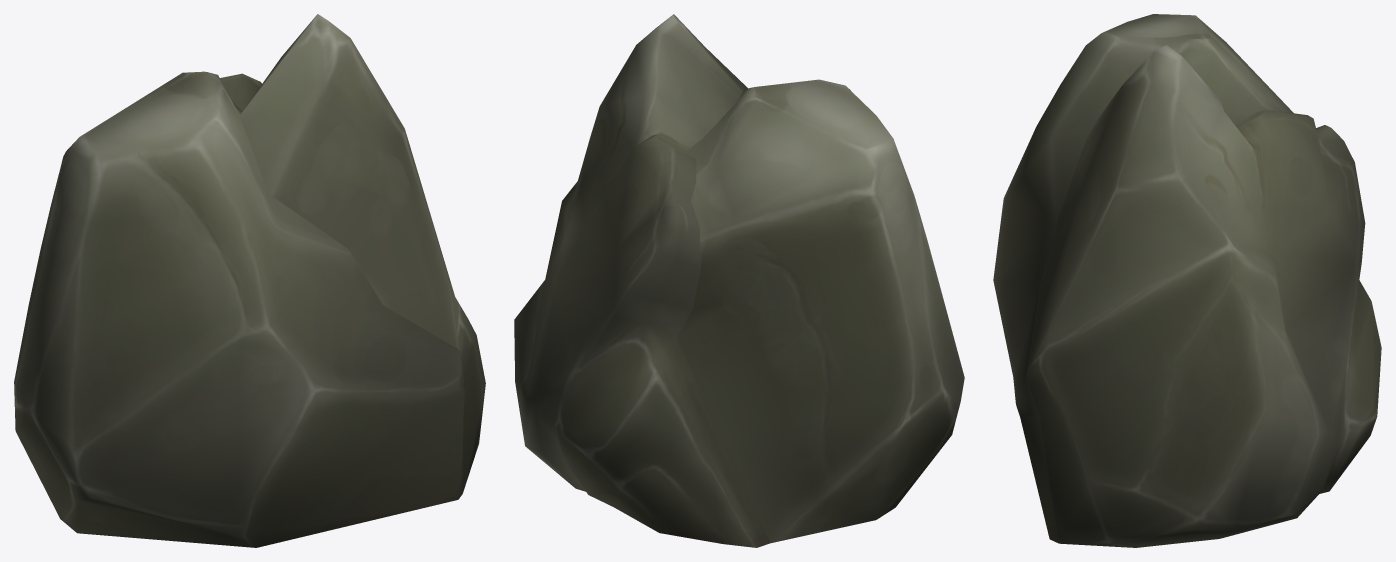
The model's file is Rock_2.FBX.
3 renders of one model, left to right at view 1: azimuth 30°, elevation 25°; view 2: azimuth 150°, elevation 25°; view 3: azimuth 270°, elevation 25°, orthographic. The views are drawn at different scales.
Parts seen in each view (by area): view 1: Rock_2; view 2: Rock_2; view 3: Rock_2.
Part boxes in pixels (x1,y1,x2,y2): Rock_2: (14, 14, 485, 547); Rock_2: (514, 14, 964, 547); Rock_2: (993, 14, 1381, 547).
Size of what is drawn, in the model's own units: 673 by 535 by 693.
